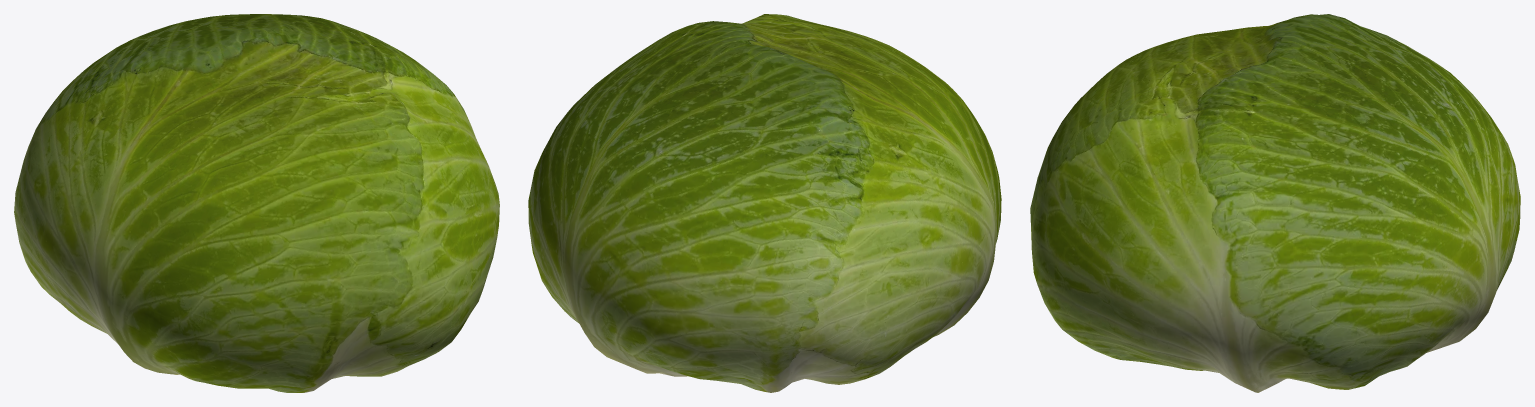
The model's file is realcabbage.glb.
3 renders of one model, left to right at view 1: azimuth 30°, elevation 25°; view 2: azimuth 150°, elevation 25°; view 3: azimuth 270°, elevation 25°, orthographic.
Visible parts, largest first — view 1: Cabbage; view 2: Cabbage; view 3: Cabbage.
Part boxes in pixels (bbox=[...]): Cabbage: bbox=[14, 14, 499, 392]; Cabbage: bbox=[528, 14, 1001, 392]; Cabbage: bbox=[1030, 14, 1520, 392].
Bounding box in the file's own units: 0.2213 × 0.16 × 0.2292.
Materials: 1 (1 with a texture image).
